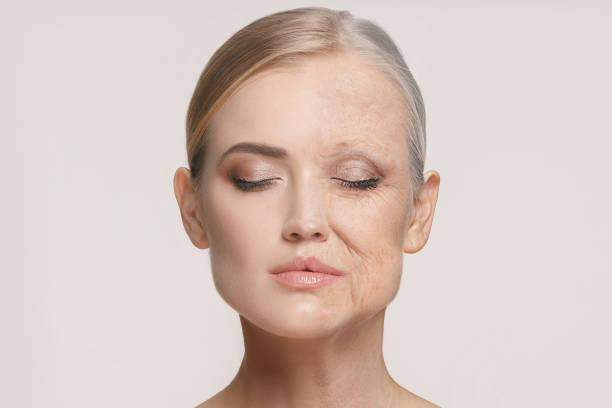Dry-Skin: (338, 189, 416, 298), (334, 71, 403, 146)
